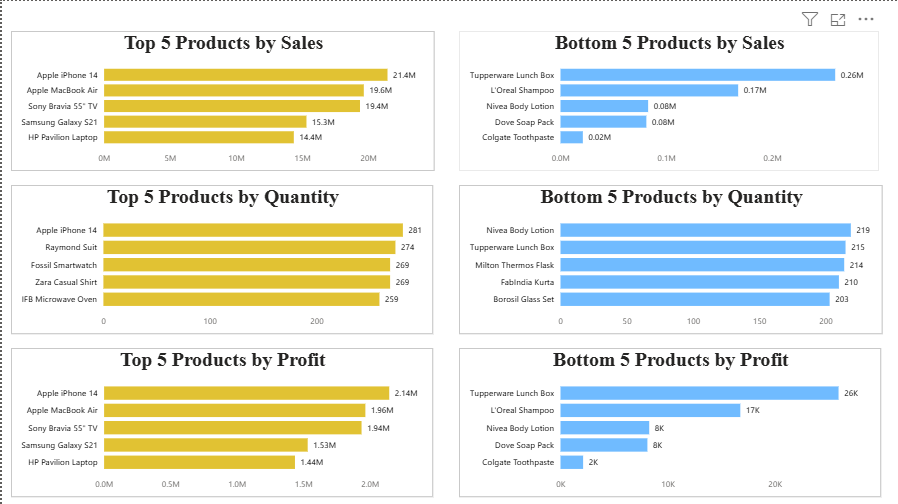

This screenshot's page, from the dashboard's own definition file:
{"tool":"powerbi","page":{"name":"Top/Bottom 5 Analysis","canvas":[1280,720],"ordinal":1},"visuals":[{"type":"barChart","title":"Top 5 Products by Sales","fields":{"Category":["Dim Product.Product Name"],"Y":["Sum(Fact Table.Net Sales  )"]},"box":[13.3,43.3,605,200],"z":0},{"type":"barChart","title":"Bottom 5 Products by Sales","fields":{"Category":["Dim Product.Product Name"],"Y":["Sum(Fact Table.Net Sales  )"]},"box":[653.3,43.3,600,200],"z":1000},{"type":"barChart","title":"Top 5 Products by Quantity","fields":{"Category":["Dim Product.Product Name"],"Y":["Sum(Fact Table.Units Sold)"]},"box":[13.3,263.3,603.3,213.3],"z":2000},{"type":"barChart","title":"Bottom 5 Products by Quantity","fields":{"Category":["Dim Product.Product Name"],"Y":["Sum(Fact Table.Units Sold)"]},"box":[653.3,263.3,605,213.3],"z":3000},{"type":"barChart","title":"Top 5 Products by Profit","fields":{"Category":["Dim Product.Product Name"],"Y":["Sum(Fact Table.Profit)"]},"box":[13.3,495,603.3,213.3],"z":4000},{"type":"barChart","title":"Bottom 5 Products by Profit","fields":{"Category":["Dim Product.Product Name"],"Y":["Sum(Fact Table.Profit)"]},"box":[653.3,495,603.3,213.3],"z":5000}]}

Visuals, with their boxes in screenshot pixels (x1, y1, x2, y2), scaled from the page's 1280x720 canvas onto the 898x504 screenshot:
"Top 5 Products by Sales" barChart: crop(9, 30, 434, 170)
"Bottom 5 Products by Sales" barChart: crop(458, 30, 879, 170)
"Top 5 Products by Quantity" barChart: crop(9, 184, 433, 334)
"Bottom 5 Products by Quantity" barChart: crop(458, 184, 883, 334)
"Top 5 Products by Profit" barChart: crop(9, 346, 433, 496)
"Bottom 5 Products by Profit" barChart: crop(458, 346, 882, 496)
